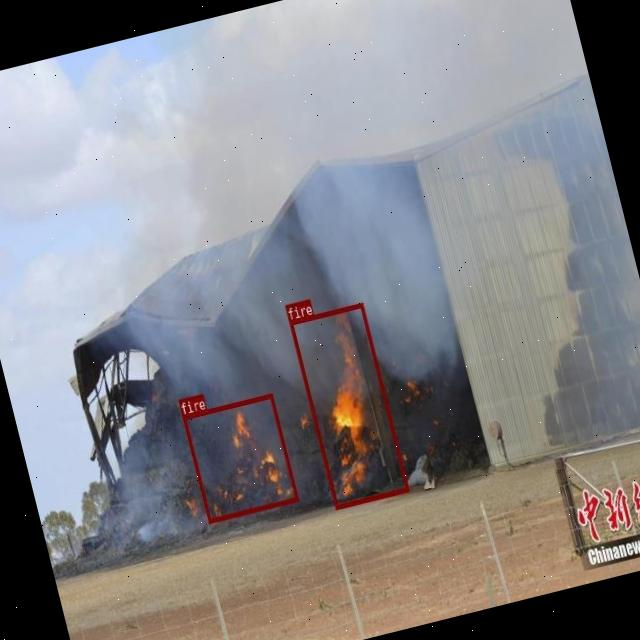fire: (288, 302, 408, 508), (182, 393, 298, 523)
